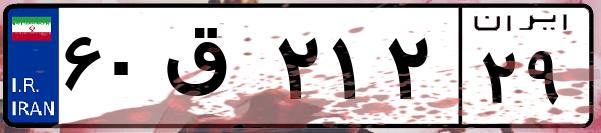0: (110, 28, 158, 98)
1: (330, 28, 385, 110)
2: (270, 28, 330, 110), (385, 28, 445, 110), (475, 38, 525, 113)
6: (57, 26, 110, 100)
9: (525, 38, 570, 115)
ق: (158, 20, 270, 120)
